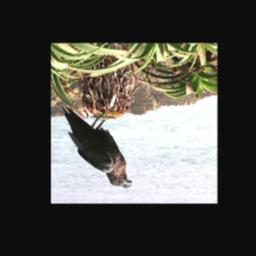Crow: (59, 105, 136, 189)
